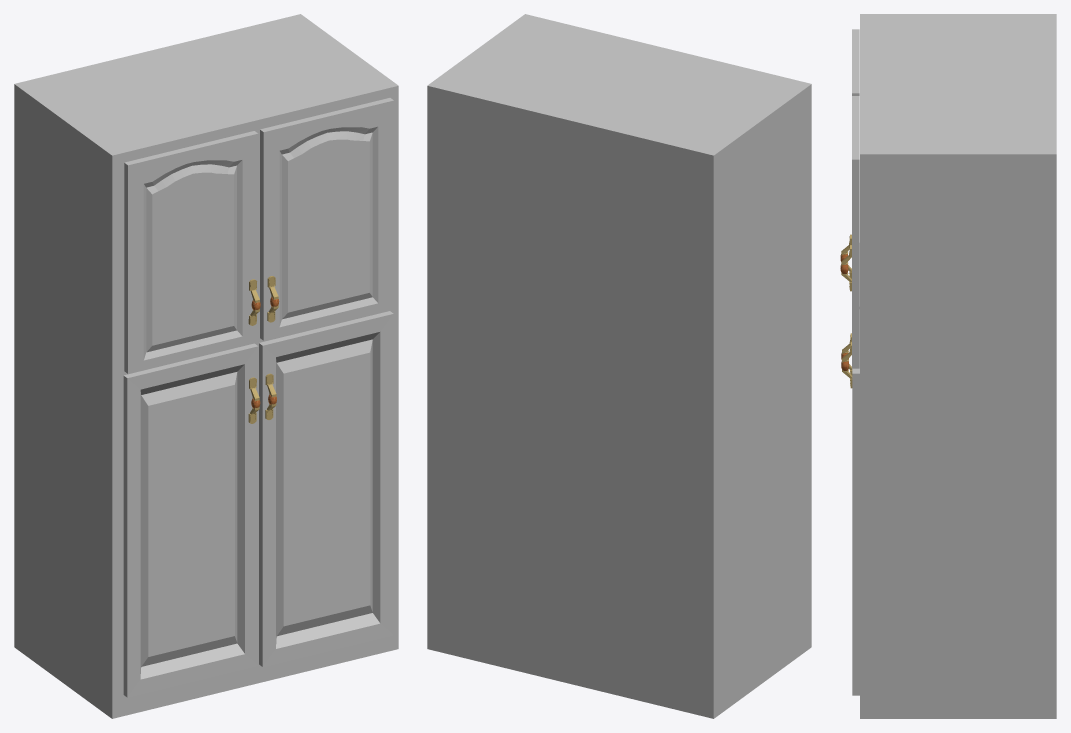
File: pantry.obj
3 renders of one model, left to right at view 1: azimuth 30°, elevation 25°; view 2: azimuth 150°, elevation 25°; view 3: azimuth 270°, elevation 25°, orthographic.
Visible parts, largest first — view 1: PolyMesh_1, PolyMesh_1_3, PolyMesh_1_4, Curvedtopcabinet_1, Curvedtopcabinet_1_1; view 2: PolyMesh_1; view 3: PolyMesh_1, PolyMesh_1_4, Curvedtopcabinet_1_1, Curvedtopcabinet_1.
Part boxes in pixels (<box>): PolyMesh_1: <box>14,14,398,718</box>; PolyMesh_1_3: <box>123,343,258,697</box>; PolyMesh_1_4: <box>259,311,393,666</box>; Curvedtopcabinet_1: <box>124,131,258,373</box>; Curvedtopcabinet_1_1: <box>260,98,393,340</box>; PolyMesh_1: <box>427,14,811,718</box>; PolyMesh_1: <box>860,14,1056,718</box>; PolyMesh_1_4: <box>852,309,859,695</box>; Curvedtopcabinet_1_1: <box>852,96,859,368</box>; Curvedtopcabinet_1: <box>852,29,859,95</box>.
Size of the model in its own units: 0.8352 by 1.57 by 0.5438.
